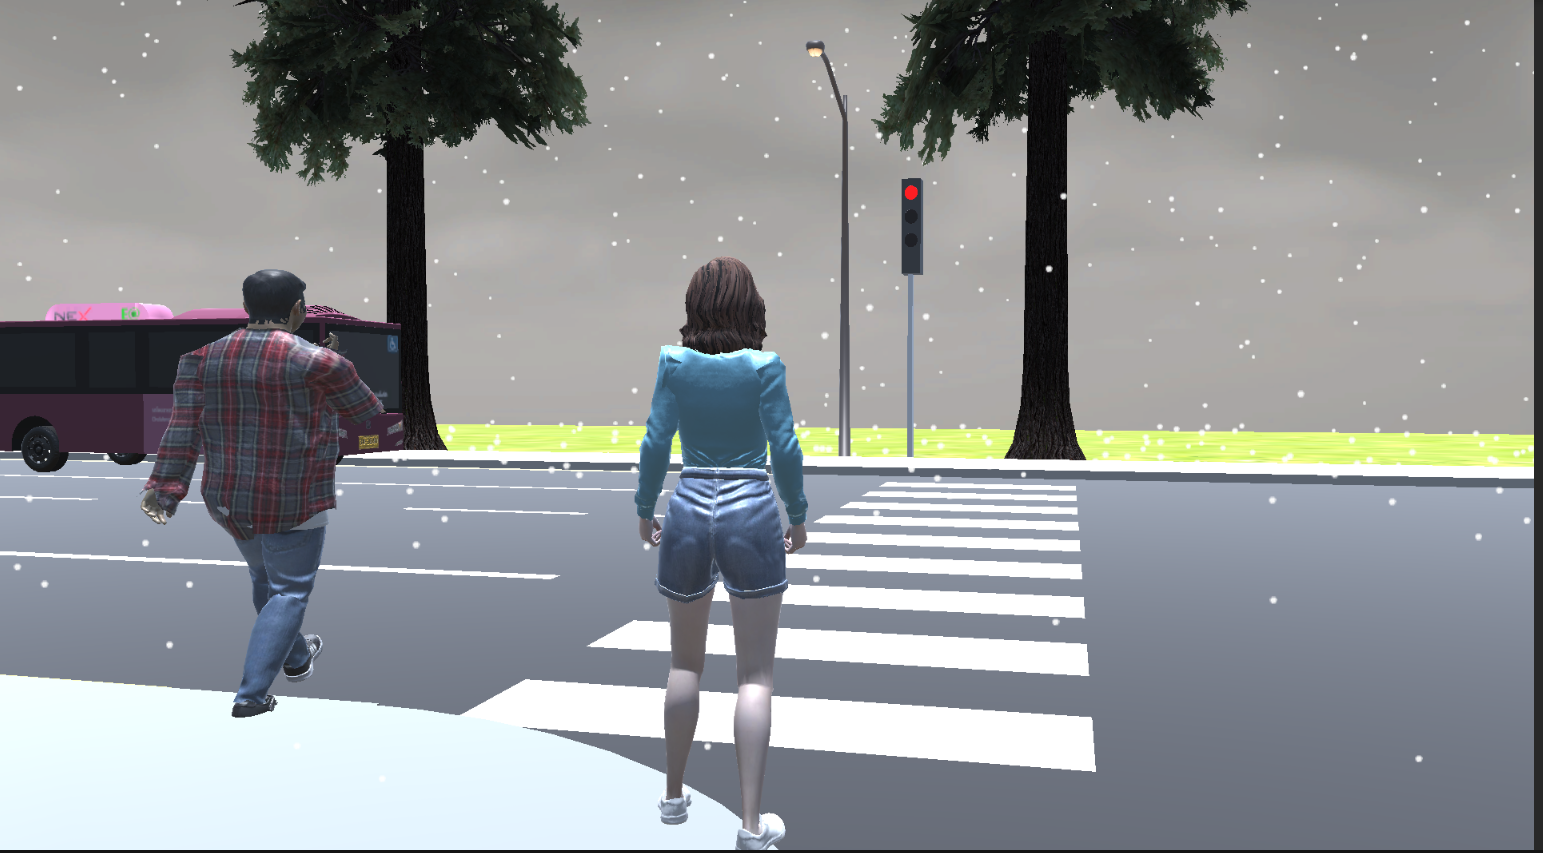pedestrian: (118, 249, 402, 752), (624, 242, 809, 853)
